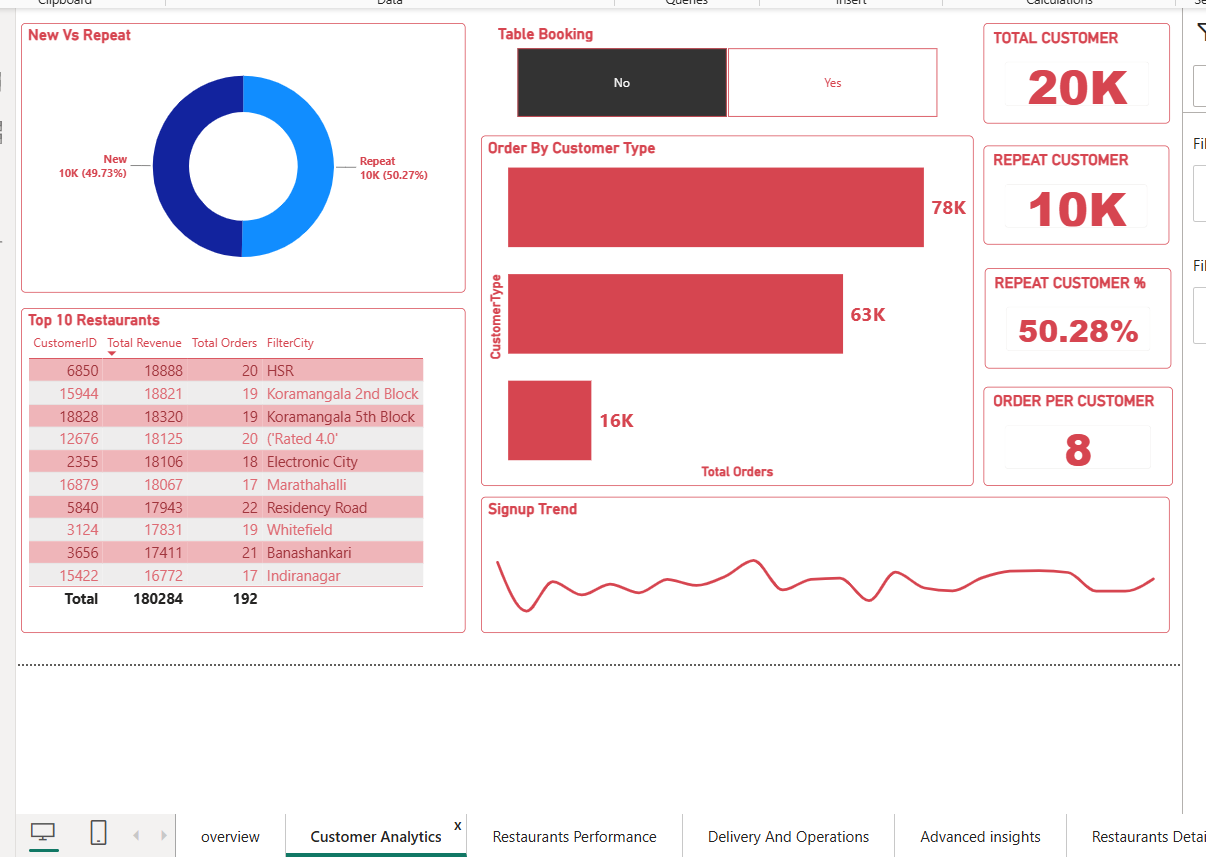

The dashboard page shown, as its layout file describes it:
{"tool":"powerbi","page":{"name":"Customer Analytics ","canvas":[1280,720],"ordinal":1},"visuals":[{"type":"cardVisual","title":"TOTAL CUSTOMER","fields":{"Data":["Orders.Total Customers"]},"box":[1062.7,16.7,205,110],"z":0},{"type":"cardVisual","title":"REPEAT CUSTOMER","fields":{"Data":["Orders.Repeat Customers"]},"box":[1062.7,150.6,203.6,108.8],"z":1000},{"type":"cardVisual","title":"REPEAT CUSTOMER %","fields":{"Data":["Orders.Repeat Customer %"]},"box":[1064.1,285.9,205,110.2],"z":2000},{"type":"cardVisual","title":"ORDER PER CUSTOMER","fields":{"Data":["Orders.Orders Per Customer"]},"box":[1062.7,415.6,207.8,108.8],"z":3000},{"type":"lineChart","title":"Signup Trend","fields":{"Category":["Customers.SignupDate.Variation.Date Hierarchy.Year","Customers.SignupDate.Variation.Date Hierarchy.Month"],"Y":["Orders.Total Customers"]},"box":[509.8,536.9,756.2,149.5],"z":4000},{"type":"barChart","title":"Order By Customer Type","fields":{"Category":["Customers.CustomerType"],"Y":["Orders.Total Orders"]},"box":[509.8,139.6,541.2,384.5],"z":5000},{"type":"donutChart","title":"New Vs Repeat","fields":{"Category":["Customers.RepeatvsNew"],"Y":["Orders.Total Customers"]},"box":[5.6,16.7,488.1,295.7],"z":6000},{"type":"tableEx","title":"Top 10 Restaurants","fields":{"Values":["Orders.CustomerID","Orders.Total Revenue","Orders.Total Orders","Customers.FilterCity"]},"box":[5.6,329.1,488.1,357],"z":7000},{"type":"slicer","title":"Table Booking","fields":{"Values":["Restaurants.Book_Table 2"]},"box":[524.1,18.5,511.3,108.2],"z":8000}]}

Visuals, with their boxes on the page's 1280x720 design canvas (x1, y1, x2, y2). These are canvas units, not pixel positions in the 1206x857 screenshot, which may show the page scaled, cropped or inside an application window:
"TOTAL CUSTOMER" cardVisual: {"x1": 1063, "y1": 17, "x2": 1268, "y2": 127}
"REPEAT CUSTOMER" cardVisual: {"x1": 1063, "y1": 151, "x2": 1266, "y2": 259}
"REPEAT CUSTOMER %" cardVisual: {"x1": 1064, "y1": 286, "x2": 1269, "y2": 396}
"ORDER PER CUSTOMER" cardVisual: {"x1": 1063, "y1": 416, "x2": 1270, "y2": 524}
"Signup Trend" lineChart: {"x1": 510, "y1": 537, "x2": 1266, "y2": 686}
"Order By Customer Type" barChart: {"x1": 510, "y1": 140, "x2": 1051, "y2": 524}
"New Vs Repeat" donutChart: {"x1": 6, "y1": 17, "x2": 494, "y2": 312}
"Top 10 Restaurants" tableEx: {"x1": 6, "y1": 329, "x2": 494, "y2": 686}
"Table Booking" slicer: {"x1": 524, "y1": 18, "x2": 1035, "y2": 127}
